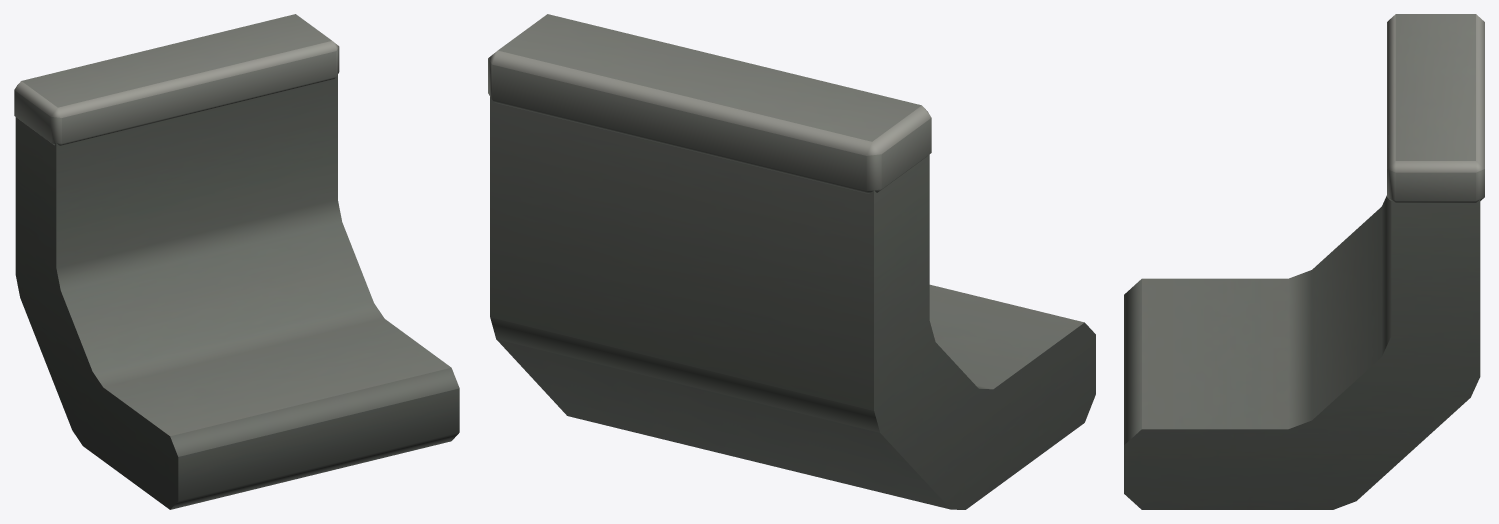
Rendered from canal_wall_section_x2.fbx.
The picture shows the model from 3 angles, left to right: view 1: azimuth 30°, elevation 25°; view 2: azimuth 150°, elevation 25°; view 3: azimuth 270°, elevation 25°; orthographic projection. The views are drawn at different scales.
Parts seen in each view (by area): view 1: canal_wall_section_x2; view 2: canal_wall_section_x2; view 3: canal_wall_section_x2.
Boxes of the visible parts, box(x1,y1,x2,y2) form: canal_wall_section_x2: box(14, 14, 459, 509); canal_wall_section_x2: box(488, 14, 1095, 509); canal_wall_section_x2: box(1124, 14, 1484, 509).
Size of the model in its own units: 410 by 430 by 405.
